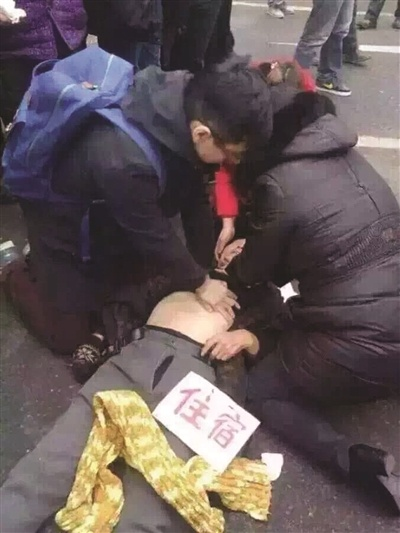falling: (19, 202, 292, 533)
